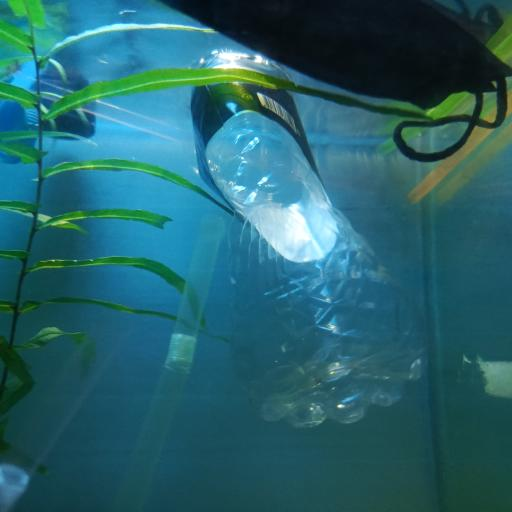bottle_cap: (0, 96, 40, 160), (41, 98, 97, 139)
mask: (164, 0, 512, 164)
plastic_bottle: (192, 61, 437, 426)
plastic_straw: (120, 216, 224, 512), (0, 315, 125, 512), (381, 32, 512, 152), (26, 66, 180, 143), (412, 92, 512, 198)
